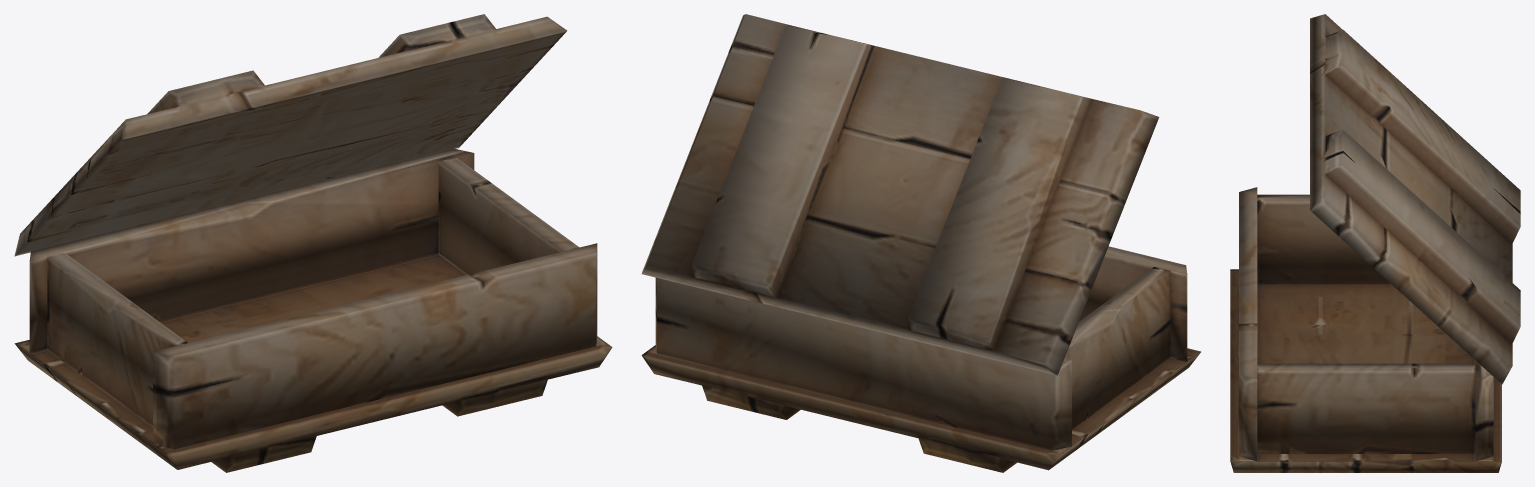
File: Crate-02.fbx
3 renders of one model, left to right at view 1: azimuth 30°, elevation 25°; view 2: azimuth 150°, elevation 25°; view 3: azimuth 270°, elevation 25°, orthographic. The views are drawn at different scales.
Parts seen in each view (by area): view 1: Crate-02; view 2: Crate-02; view 3: Crate-02.
Part boxes in pixels (x1=…): Crate-02: x1=14, y1=14, x2=612, y2=472; Crate-02: x1=641, y1=14, x2=1200, y2=472; Crate-02: x1=1230, y1=14, x2=1520, y2=472.
Bounding box in the file's own units: 0.375 × 0.2736 × 0.2395.
1 material, 1 textured.
